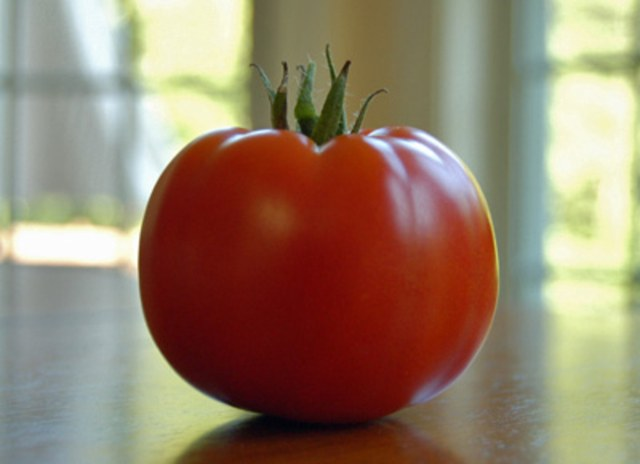tomato: (136, 40, 501, 424)
